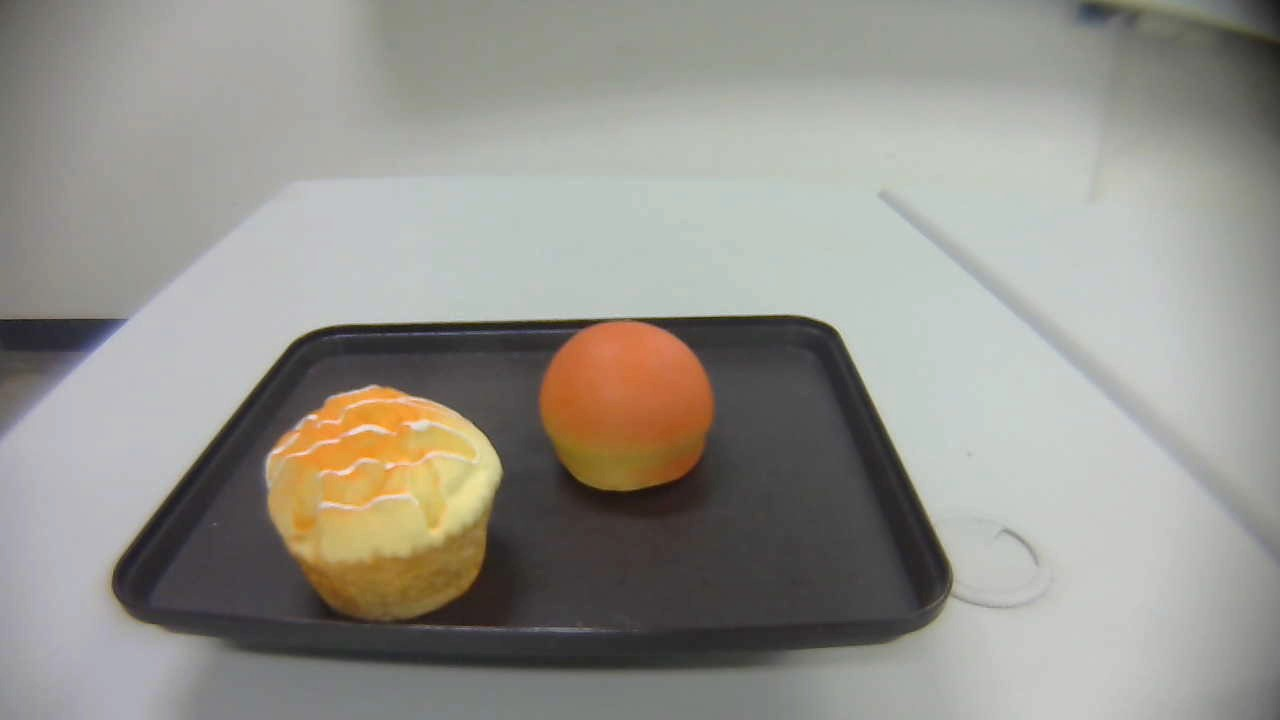bun: (538, 319, 715, 492)
cupcake: (265, 383, 501, 624)
